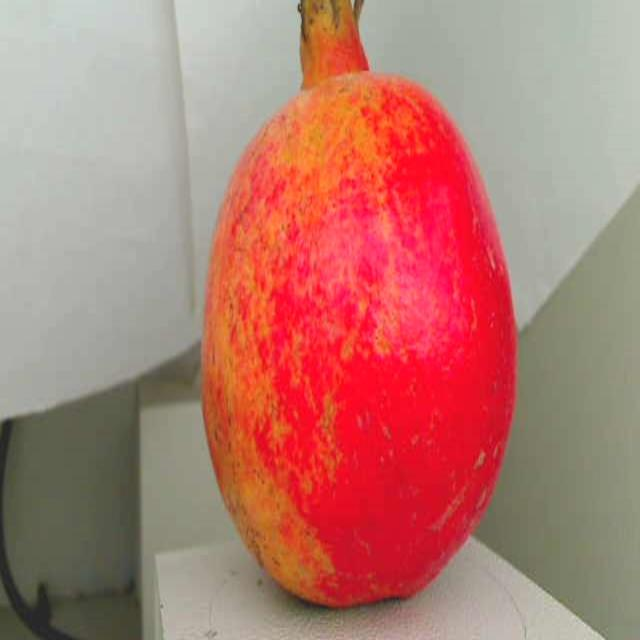pomegranate: (191, 0, 523, 618)
